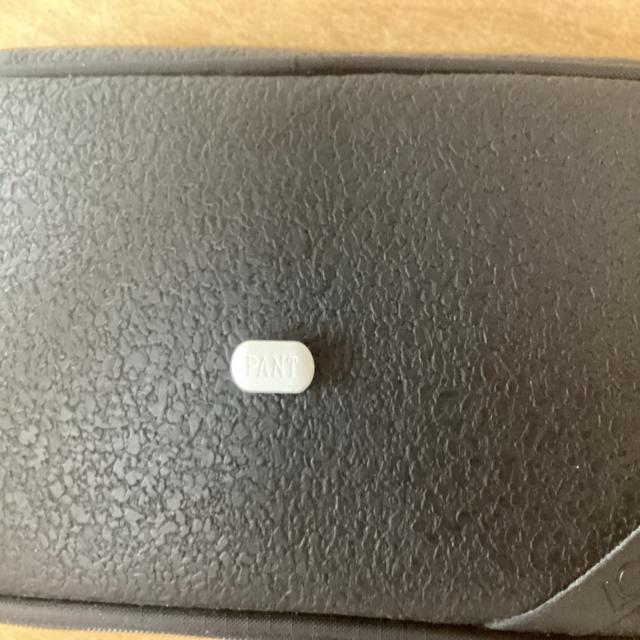-: (228, 328, 322, 407)
